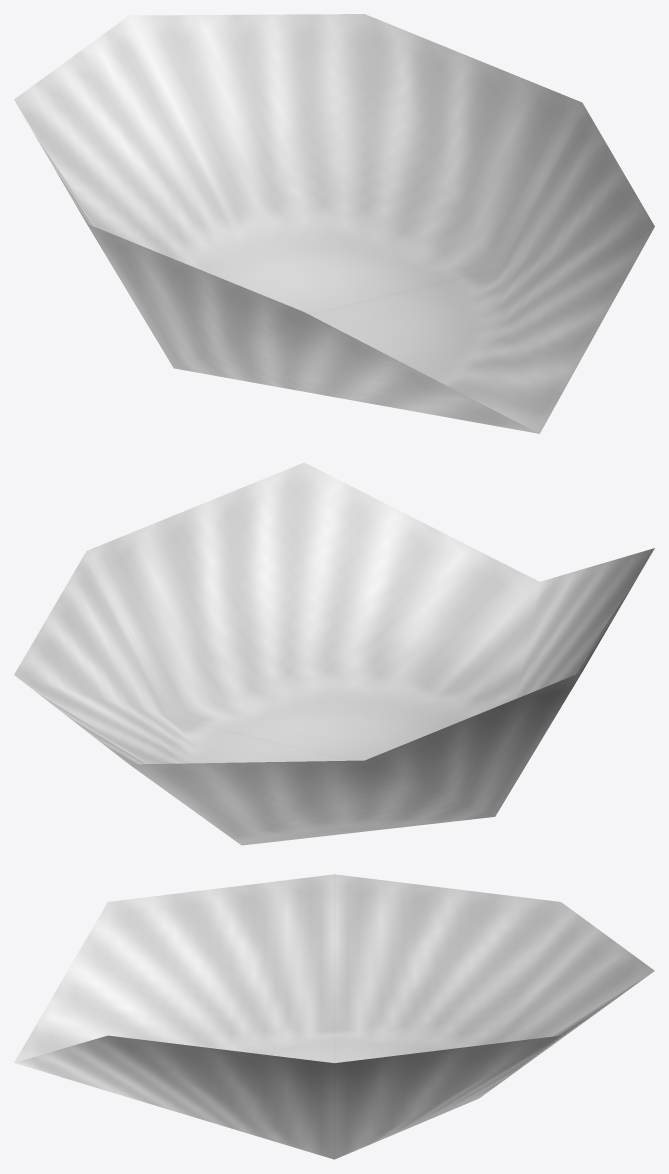
The model's file is jsf_WheelCase_01.fbx.
3 renders of one model, top to bottom at view 1: azimuth 30°, elevation 25°; view 2: azimuth 150°, elevation 25°; view 3: azimuth 270°, elevation 25°, orthographic. The views are drawn at different scales.
Parts seen in each view (by area): view 1: jsf_WheelCase_01; view 2: jsf_WheelCase_01; view 3: jsf_WheelCase_01.
Part boxes in pixels (bbox=[...]): jsf_WheelCase_01: bbox=[14, 14, 654, 433]; jsf_WheelCase_01: bbox=[14, 462, 654, 845]; jsf_WheelCase_01: bbox=[14, 874, 654, 1159].
Bounding box in the file's own units: 6.24 × 2 × 8.95.
